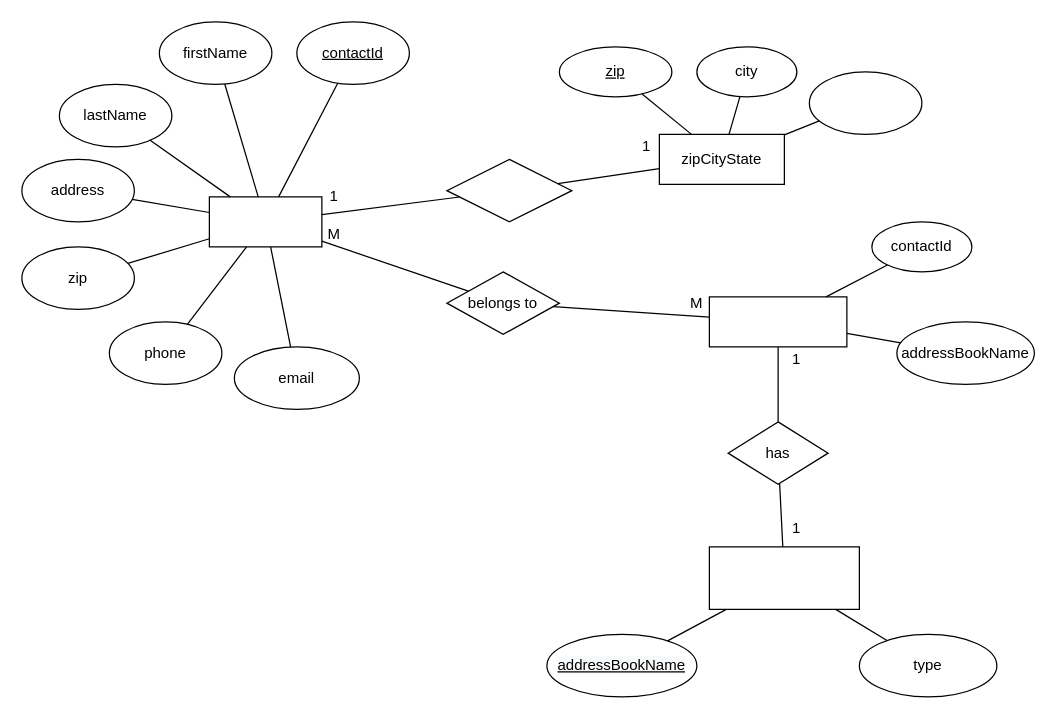
Some shapes in this 1056 by 719 pixel diagram are drawn without their labels. The centre of each missing label's shape, as x and y in pixels:
addressBook: pixel 777 321
addressBookTypes: pixel 783 577
Contact: pixel 265 221
is from: pixel 509 190
state: pixel 865 102
